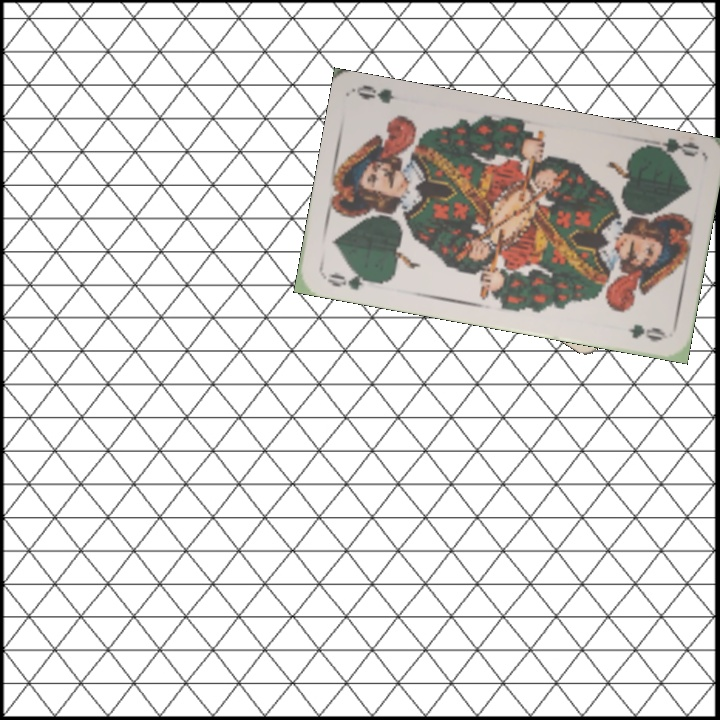GO: (640, 134, 700, 164), (323, 266, 381, 293)
